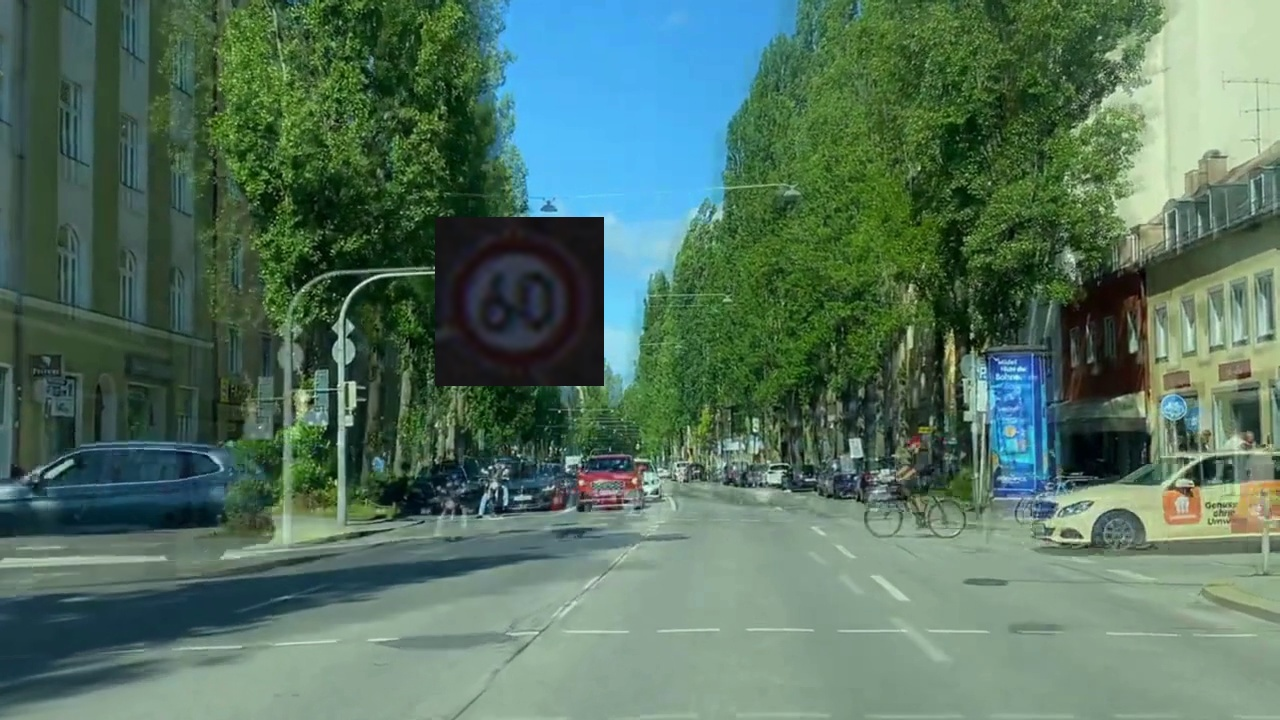Speed 60: (435, 217, 604, 386)
